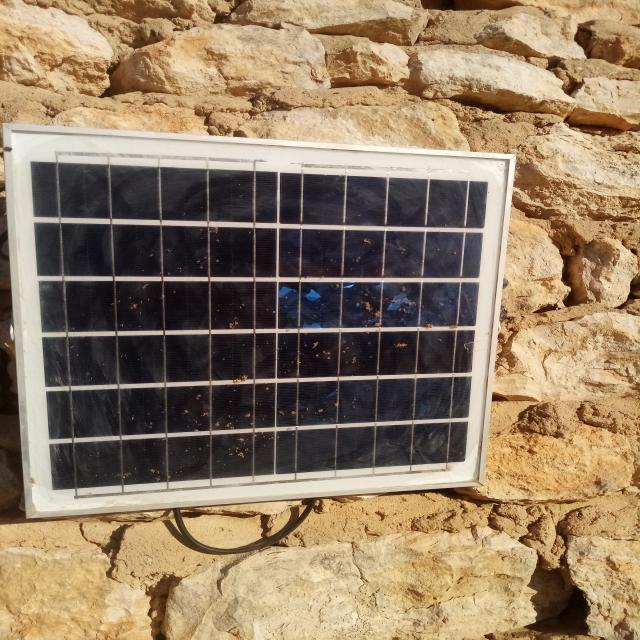faulty: (4, 126, 519, 518)
